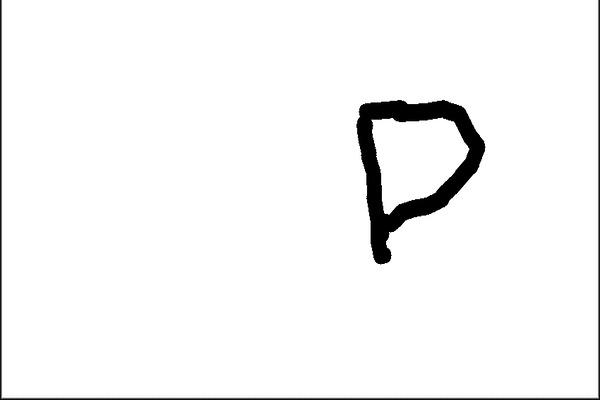D: (348, 93, 488, 271)
